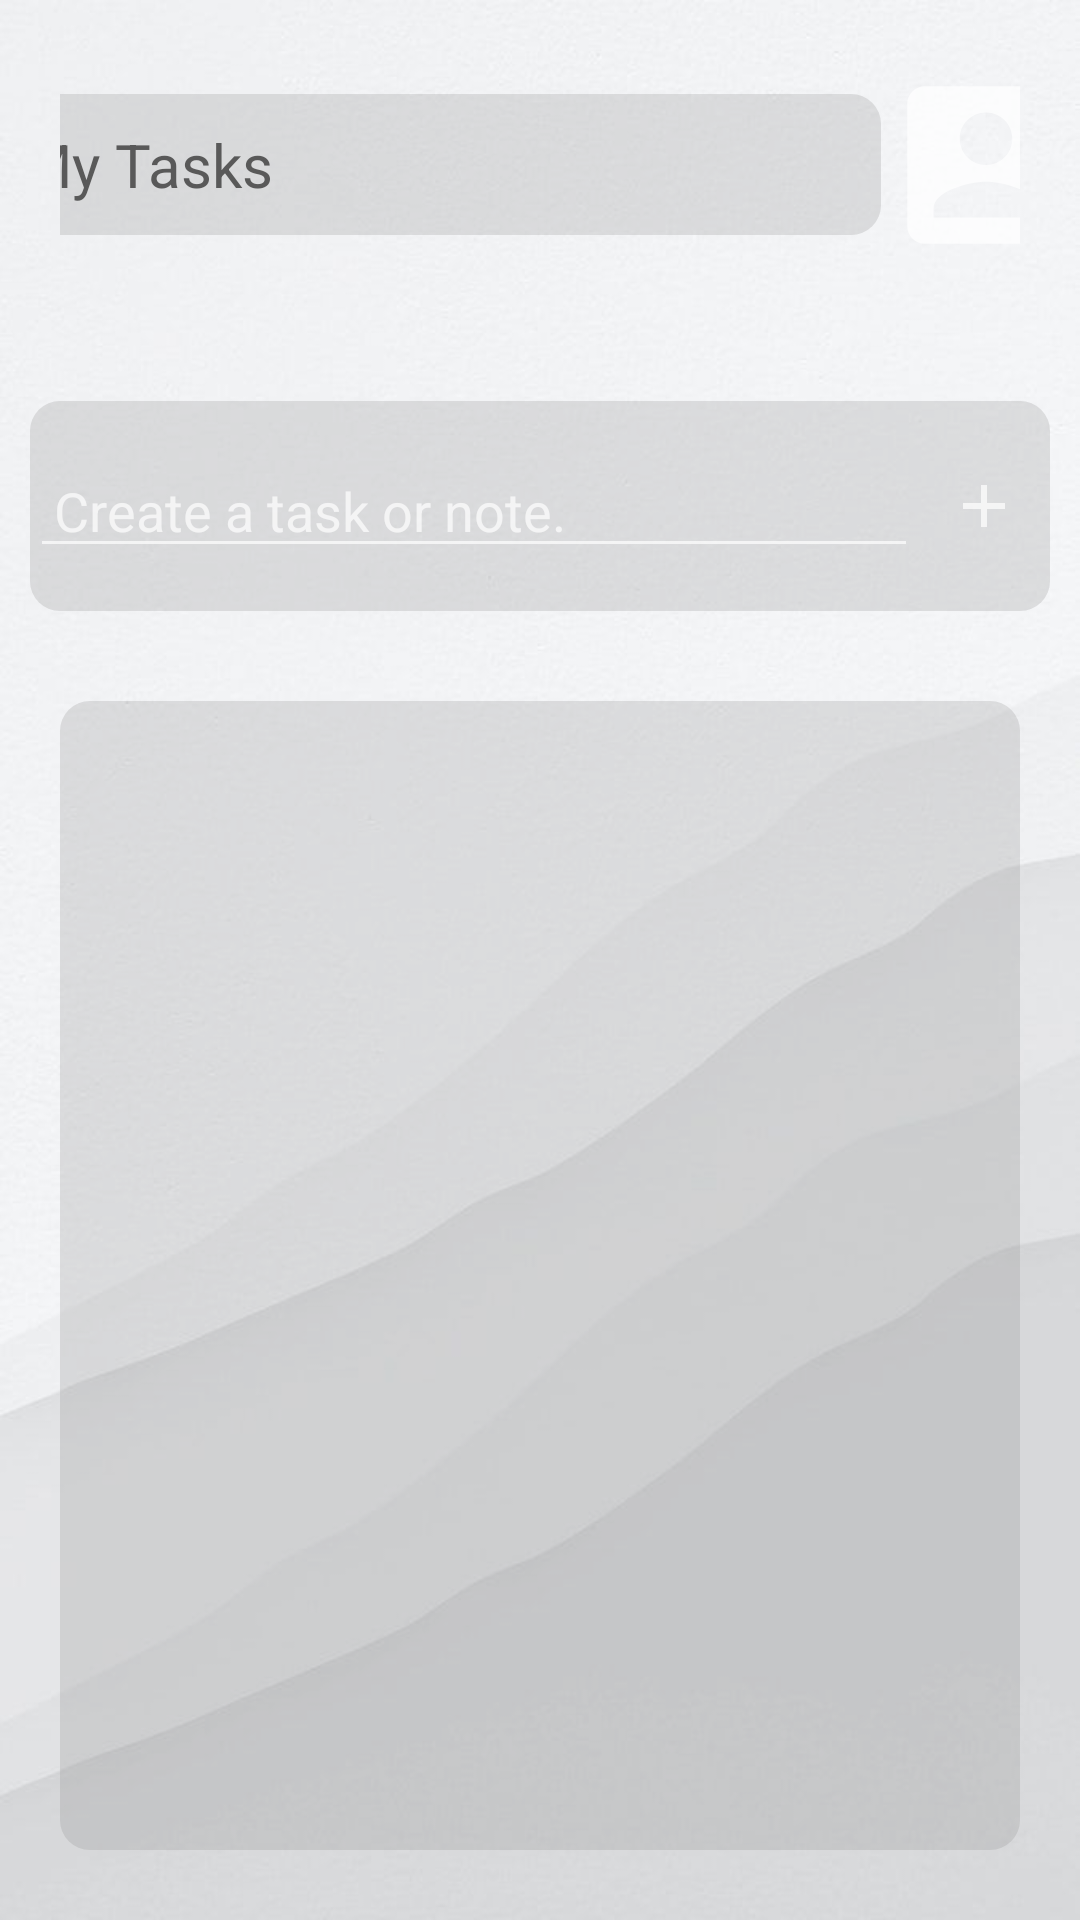

Icon bounding boxes for this 1080x1920 phone screenshot, format rect(x1, y1, x2, y2):
add: rect(918, 401, 1050, 611)
